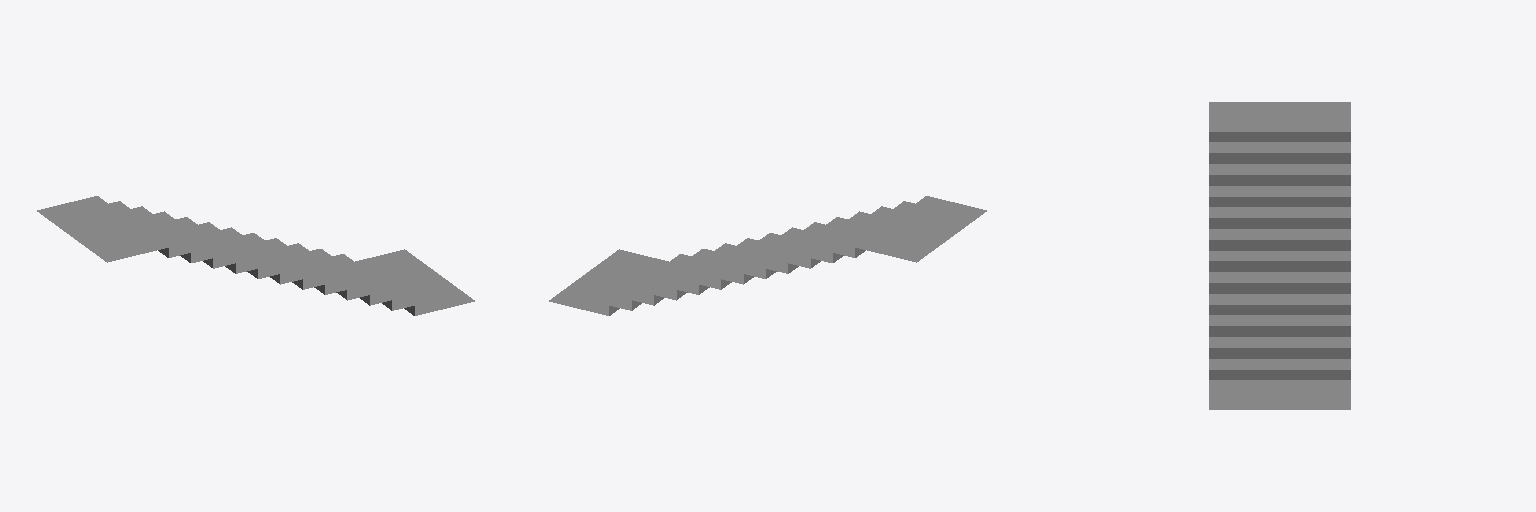
The model's file is Stairs_Mid.obj.
3 renders of one model, left to right at view 1: azimuth 30°, elevation 25°; view 2: azimuth 150°, elevation 25°; view 3: azimuth 270°, elevation 25°, orthographic.
Visible parts, largest first — view 1: Palette; view 2: Palette; view 3: Palette.
Boxes of the visible parts, <box> form: Palette: <box>37,196,474,315</box>; Palette: <box>549,196,986,315</box>; Palette: <box>1209,102,1350,409</box>.
Size of the model in its own units: 18 by 6 by 6.